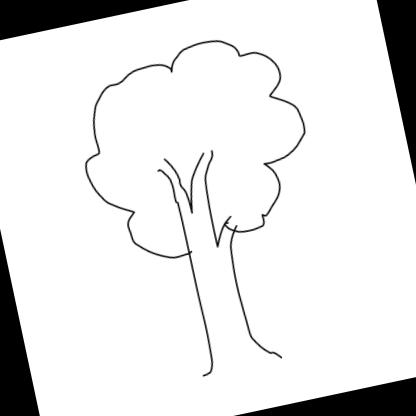branch_line: (150, 138, 242, 258)
crown_cloud: (61, 22, 328, 273)
trunk_straight: (184, 250, 256, 346)
